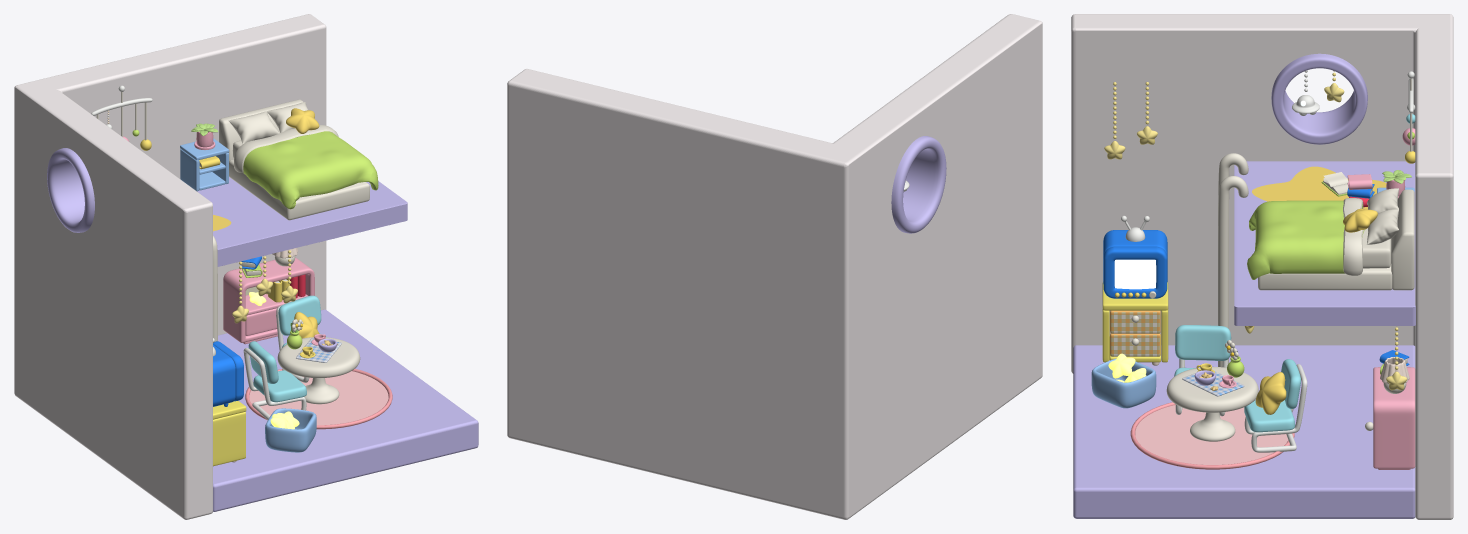
Rendered from tableset_compressed.glb.
The picture shows the model from 3 angles, left to right: view 1: azimuth 30°, elevation 25°; view 2: azimuth 150°, elevation 25°; view 3: azimuth 270°, elevation 25°; orthographic projection. The views are drawn at different scales.
Visible parts, largest first — view 1: Cube.001, Cube.003, Cube.002, Plane.003, bookshelf, rug, Windows_Frame, table, Cube.009, TV_body, star_box, TV_stand_side (+10 smaller); view 2: Cube.001, Windows_Frame; view 3: Cube.001, Cube.003, Cube.002, Plane.003, rug, Windows_Frame, bookshelf, table, TV_body, Cube.009, Torus.002, Cube (+20 smaller).
Part boxes in pixels (x1=…): Cube.001: x1=14, y1=14, x2=326, y2=519; Cube.003: x1=213, y1=309, x2=478, y2=511; Cube.002: x1=197, y1=177, x2=407, y2=266; Plane.003: x1=243, y1=131, x2=378, y2=209; bookshelf: x1=223, y1=257, x2=314, y2=344; rug: x1=249, y1=371, x2=388, y2=425; Windows_Frame: x1=47, y1=148, x2=94, y2=232; table: x1=277, y1=337, x2=360, y2=404; Cube.009: x1=229, y1=159, x2=369, y2=220; TV_body: x1=213, y1=341, x2=243, y2=406; star_box: x1=265, y1=408, x2=316, y2=452; TV_stand_side: x1=213, y1=412, x2=245, y2=466; Cube.001: x1=507, y1=14, x2=1042, y2=519; Windows_Frame: x1=891, y1=136, x2=946, y2=233; Cube.001: x1=1071, y1=14, x2=1453, y2=519; Cube.003: x1=1073, y1=345, x2=1415, y2=518; Cube.002: x1=1234, y1=161, x2=1415, y2=325; Plane.003: x1=1247, y1=200, x2=1364, y2=279; rug: x1=1135, y1=405, x2=1288, y2=464; Windows_Frame: x1=1271, y1=53, x2=1367, y2=144; bookshelf: x1=1365, y1=367, x2=1415, y2=469; table: x1=1166, y1=366, x2=1258, y2=441; TV_body: x1=1103, y1=230, x2=1167, y2=298; Cube.009: x1=1258, y1=264, x2=1392, y2=290; Torus.002: x1=1218, y1=153, x2=1248, y2=367; Cube: x1=1110, y1=310, x2=1160, y2=356.
Size of the model in its own units: 2.04 by 2 by 2.
